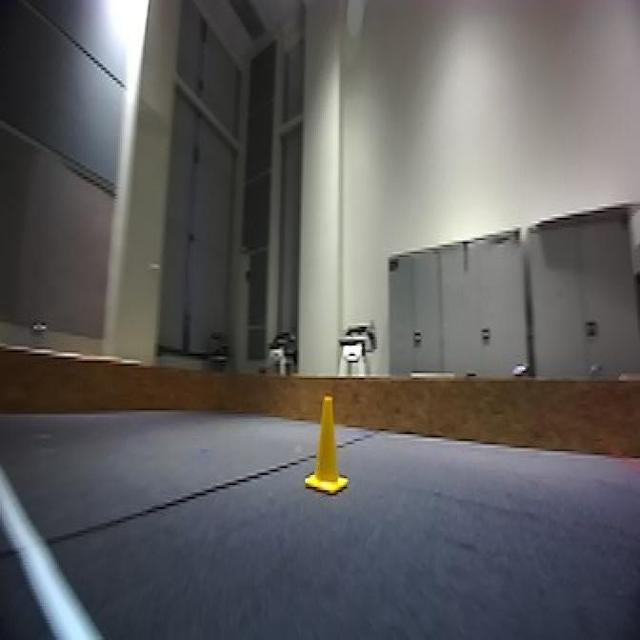frc_cone: (303, 388, 351, 502)
